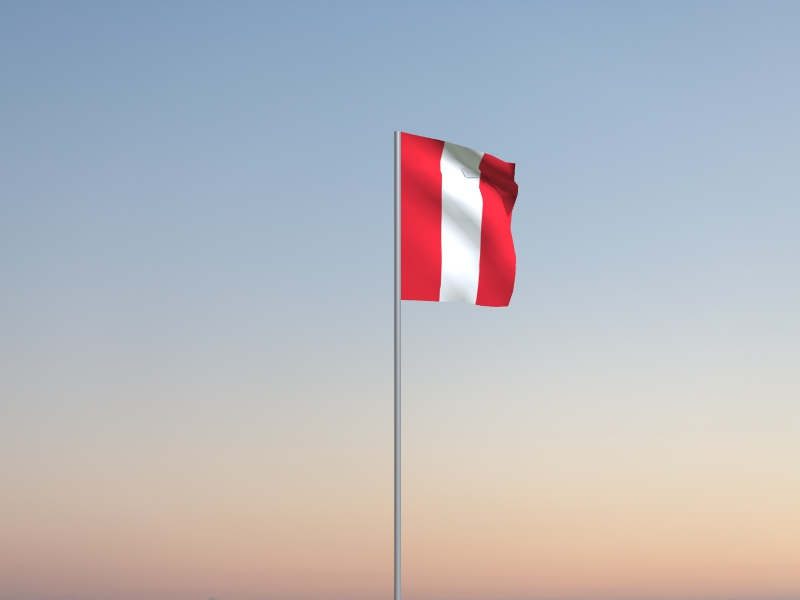at: (401, 133, 520, 310)
